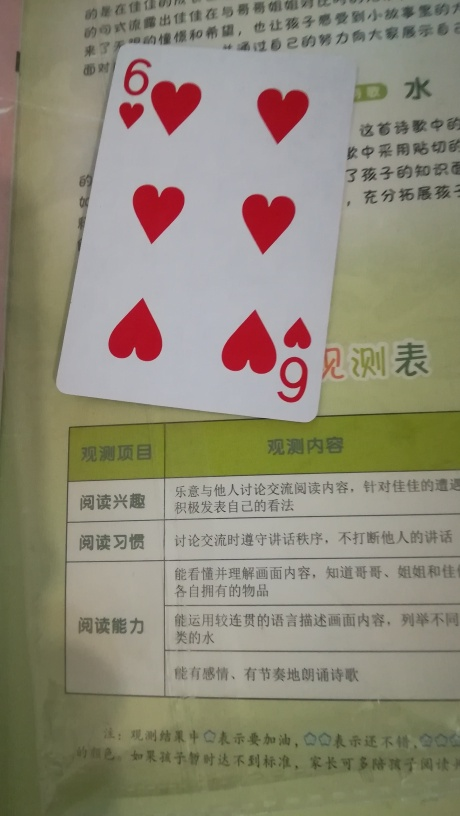hx 6: (51, 43, 366, 441)
